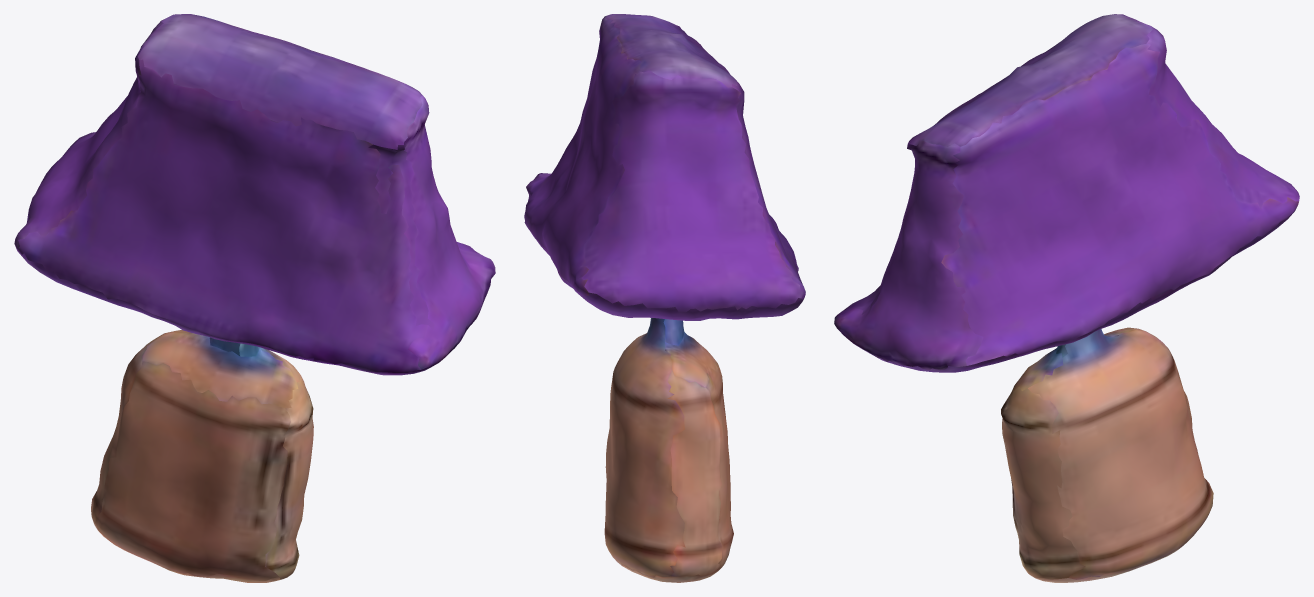
The model's file is 3_lamp.glb.
3 views of the same model, side by side, from view 1: azimuth 30°, elevation 25°; view 2: azimuth 150°, elevation 25°; view 3: azimuth 270°, elevation 25° (orthographic). The views are drawn at different scales.
Parts seen in each view (by area): view 1: 3_lamp; view 2: 3_lamp; view 3: 3_lamp.
Part boxes in pixels (left/top/right/bottom): 3_lamp: left=14, top=14, right=495, bottom=582; 3_lamp: left=524, top=14, right=805, bottom=582; 3_lamp: left=834, top=14, right=1299, bottom=582.
Bounding box in the file's own units: 0.4575 × 0.6297 × 0.4966.
Materials: 1 (1 with a texture image).
